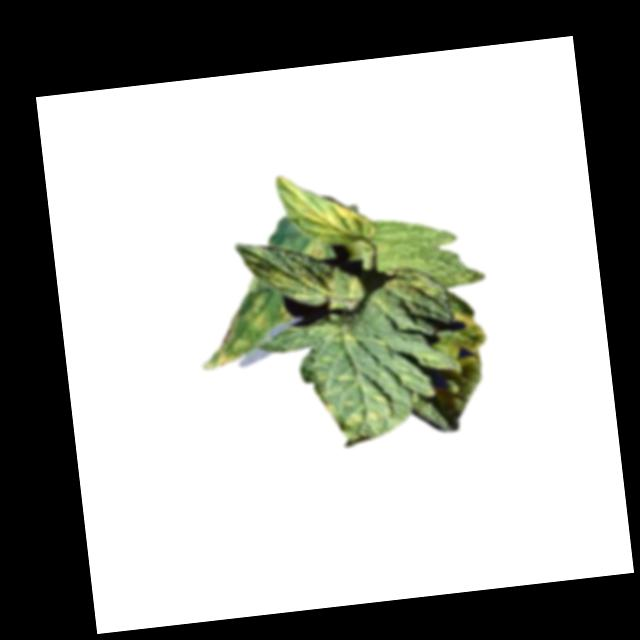Leaf_Mold: (188, 272, 298, 371), (273, 165, 373, 251), (271, 256, 363, 307), (322, 389, 398, 448), (438, 307, 489, 369)
